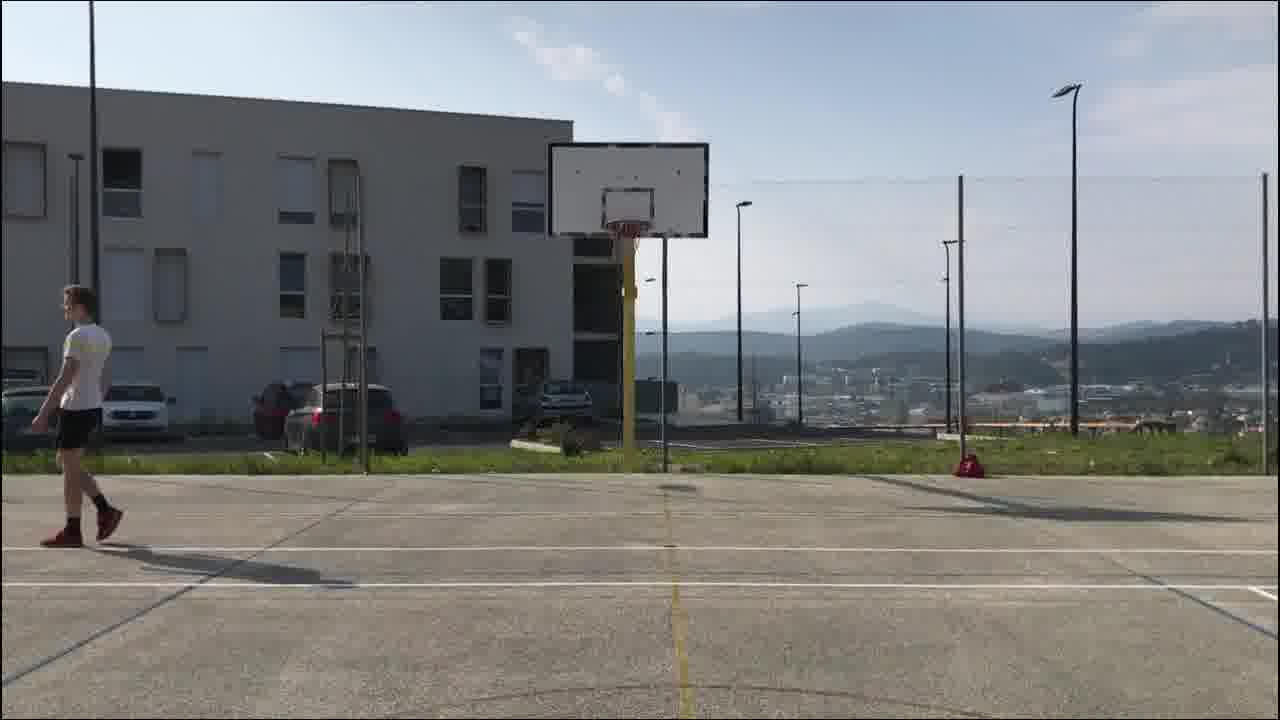jugador: (25, 273, 132, 560)
